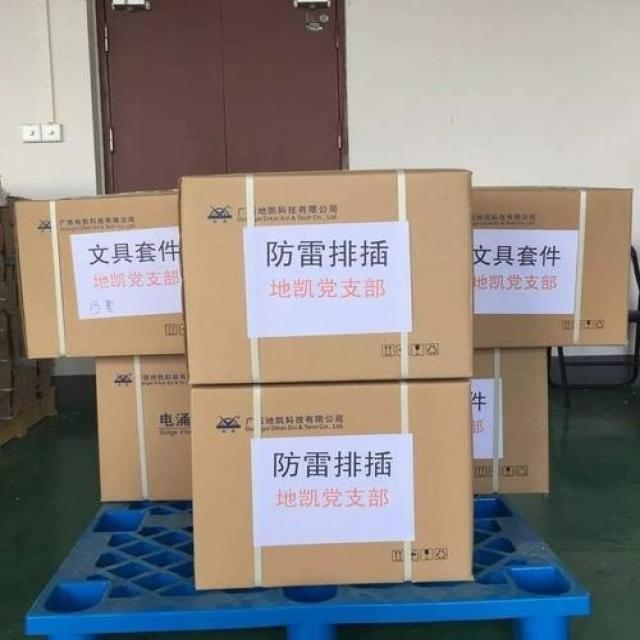box: (179, 168, 475, 383), (191, 378, 475, 592), (8, 189, 187, 359), (472, 188, 634, 349), (95, 354, 192, 502), (470, 347, 550, 496)
